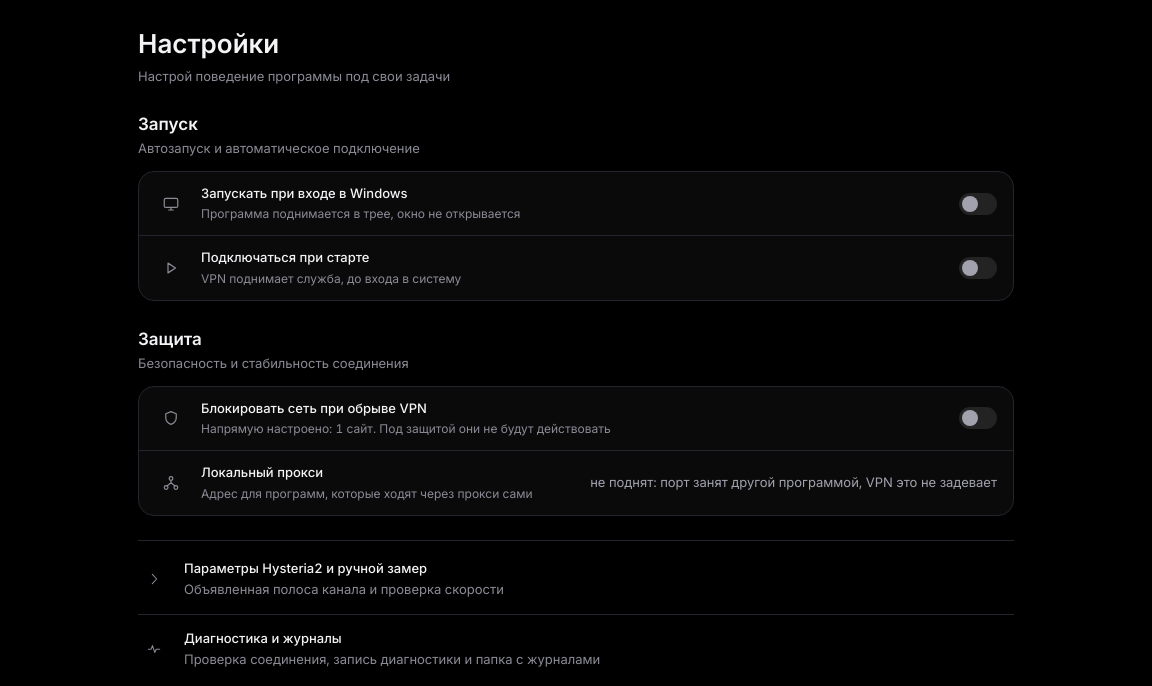
Test: перед включением защиты сказано, что именно перестанет действовать
Click the switch with test id "ves-trafik".
click(978, 418)  # box [959,407,997,429]
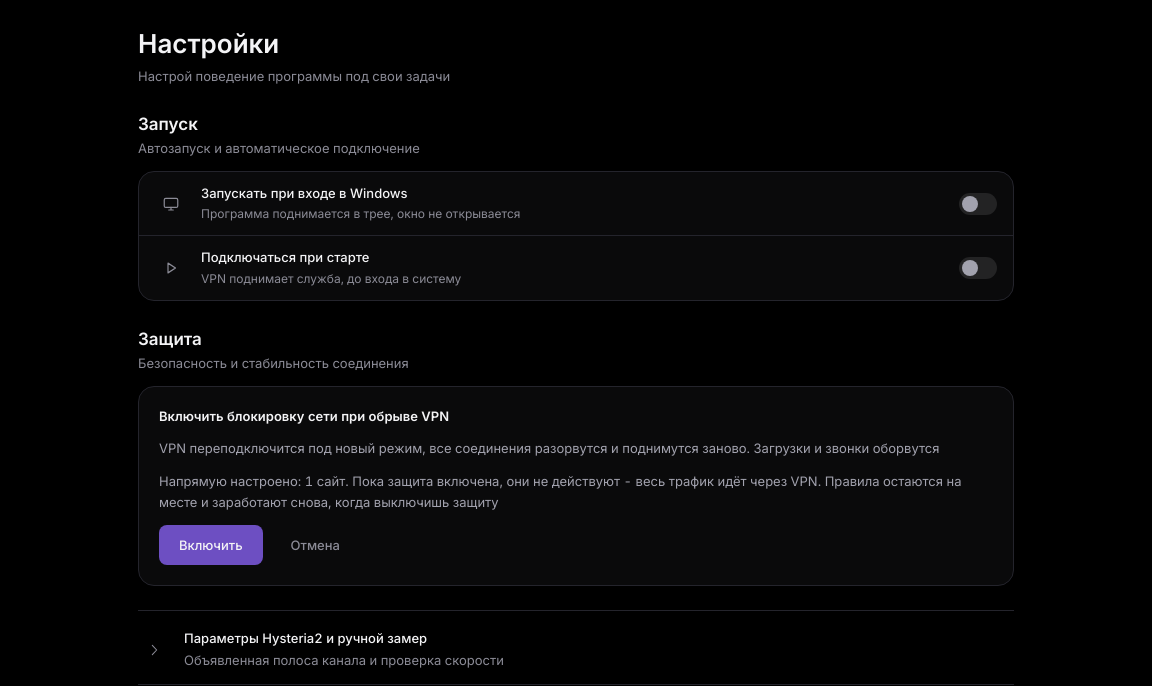
Expected: the text with test id "usnut-pravila" shows "1 сайт", [159,473,345,489]
Expected: the text with test id "usnut-pravila" shows "не действуют", [159,473,961,510]
Expected: the button with test id "podtverdit-rezhim" is enabled, [159,525,262,565]
